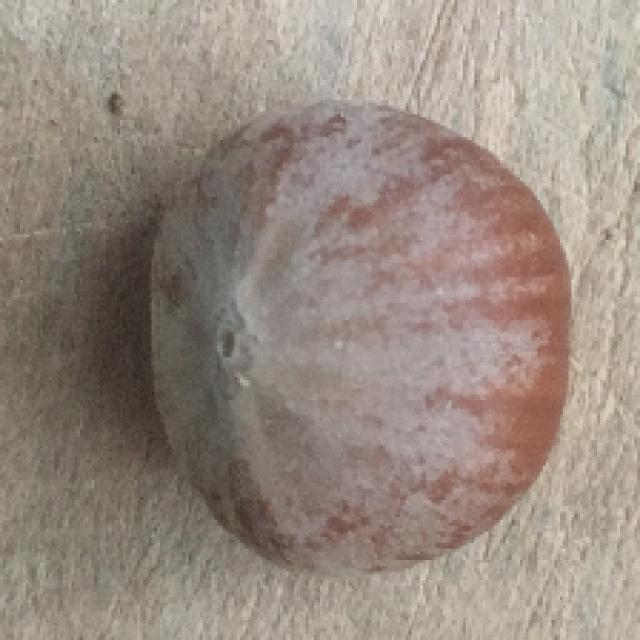QualityHazelnut: (148, 98, 569, 582)
